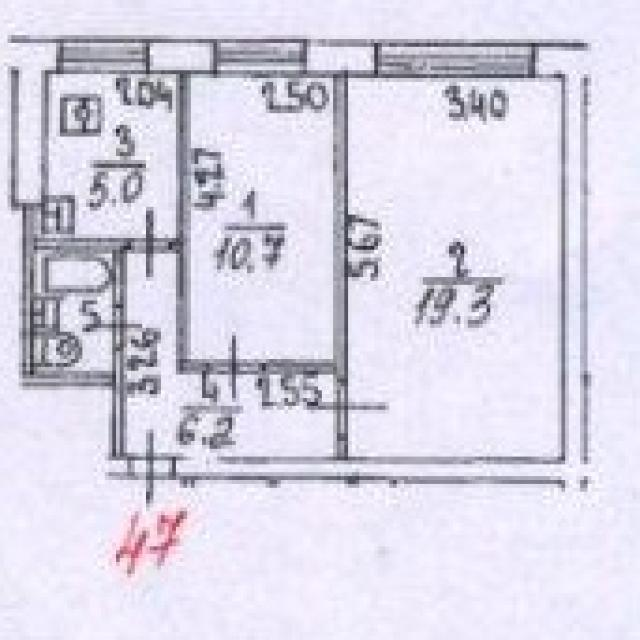Bathrooms: (37, 253, 111, 368)
Corridors: (128, 257, 333, 456)
Doors: (314, 380, 393, 442), (125, 203, 176, 281), (210, 330, 263, 401), (129, 427, 174, 510), (81, 305, 143, 352)
LBwalls: (8, 35, 55, 211), (310, 37, 374, 79), (150, 36, 212, 74), (539, 38, 590, 81)
Offices: (349, 82, 564, 458), (192, 76, 330, 358), (44, 74, 174, 234)
Walls: (173, 82, 588, 494), (19, 211, 127, 455), (264, 80, 349, 382), (175, 74, 209, 377), (101, 457, 132, 481), (334, 439, 350, 457)
Windows: (375, 40, 540, 81), (212, 37, 308, 76), (55, 37, 150, 75)
